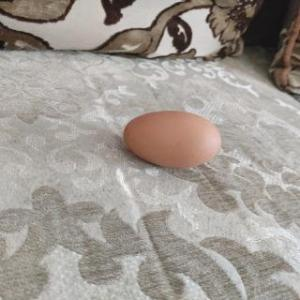egg: (122, 110, 224, 170)
